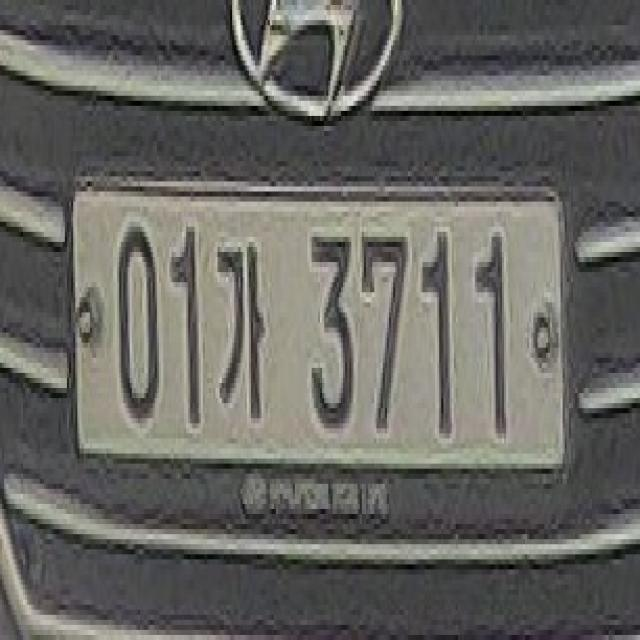0: (117, 210, 161, 428)
1: (416, 206, 463, 460), (468, 222, 517, 450), (169, 209, 204, 442)
3: (305, 221, 358, 436)
7: (360, 220, 412, 456)
ga: (213, 220, 270, 432)
license_plate: (55, 158, 578, 498)
